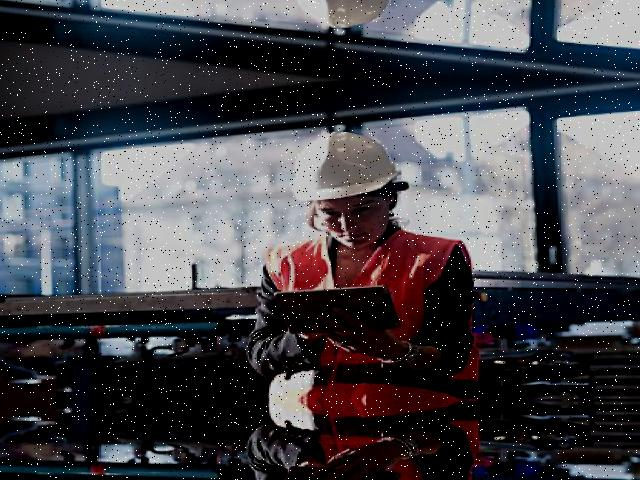Helmet: (284, 127, 400, 212)
